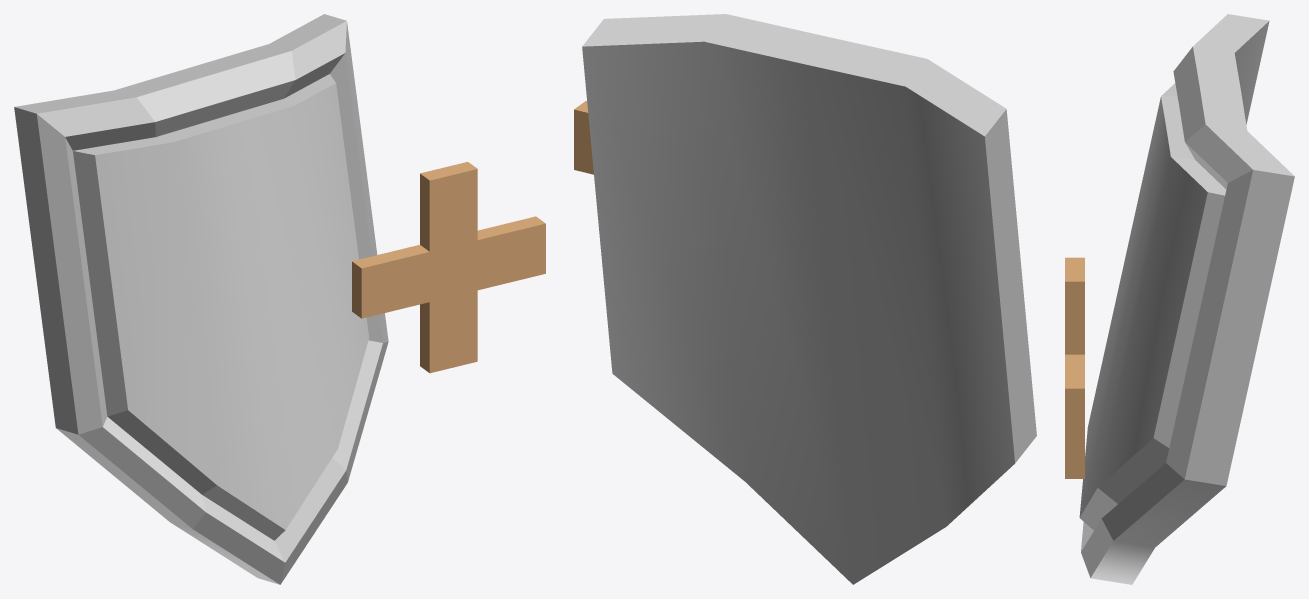
The model's file is PowerUp1_V1.fbx.
3 renders of one model, left to right at view 1: azimuth 30°, elevation 25°; view 2: azimuth 150°, elevation 25°; view 3: azimuth 270°, elevation 25°, orthographic. The views are drawn at different scales.
Parts seen in each view (by area): view 1: pCube10, pCube11; view 2: pCube10, pCube11; view 3: pCube10, pCube11.
Boxes of the visible parts, x1,y1,x2,y2 form: pCube10: [14, 14, 388, 584]; pCube11: [352, 162, 545, 373]; pCube10: [582, 14, 1036, 584]; pCube11: [574, 101, 593, 174]; pCube10: [1079, 14, 1294, 584]; pCube11: [1065, 257, 1084, 478].
Bounding box in the file's own units: 541 × 580 × 244.
